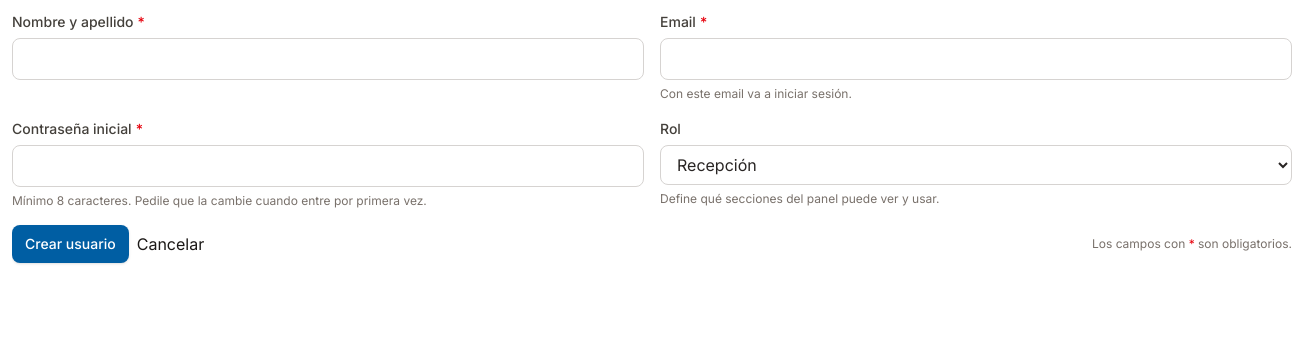
it: Formularios: lo escrito sobrevive a un error de la acción › alta de usuario: repone nombre, email y rol, pero NUNCA la contraseña
Type "Lucía Paz" into the field labelled "Nombre y apellido*" at (328, 59), box [12,38,644,80]
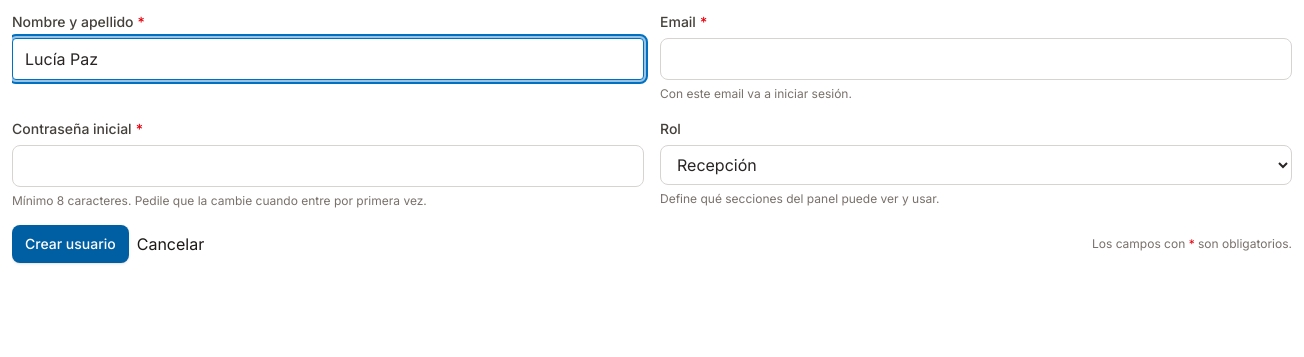
Type "lucia@hotel.test" into the field labelled "Email* Con este email va a iniciar sesión." at (976, 59), box [660,38,1292,80]
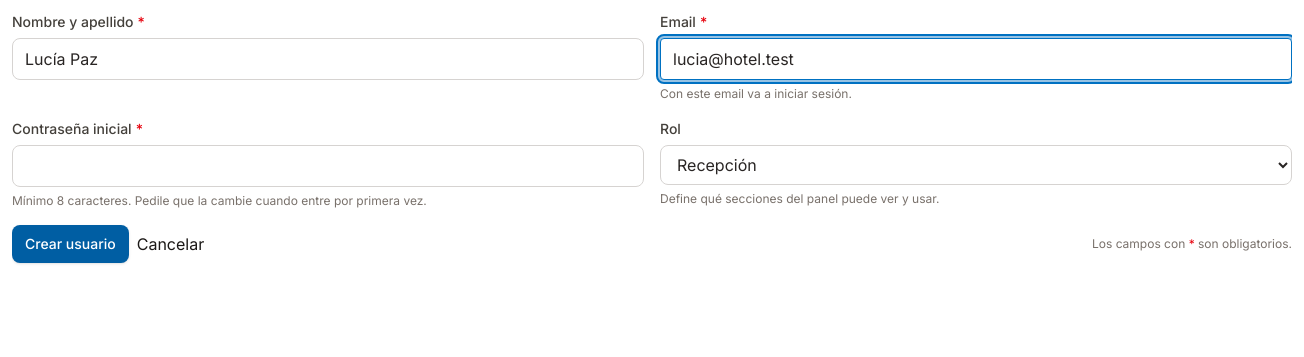
Type "clave-secreta-123" into the password field at (328, 166), box [12,144,644,186]
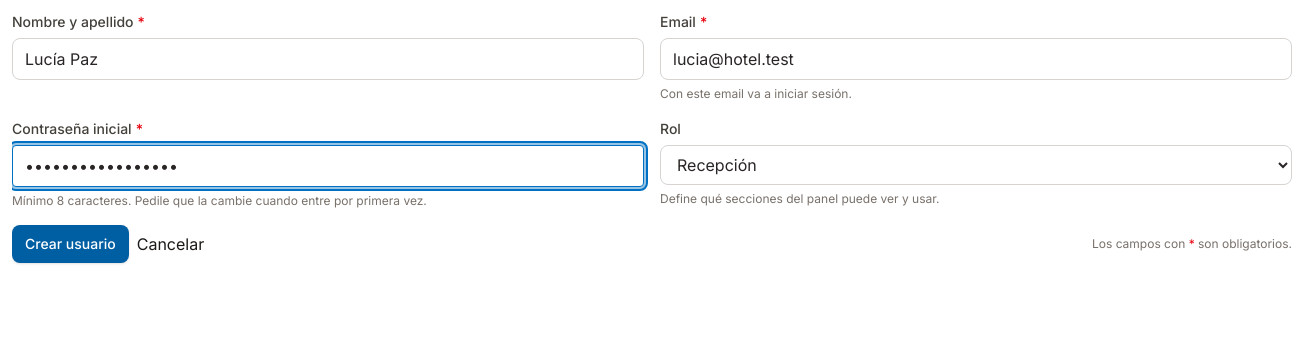
Select "Housekeeping" in the dropdown labelled "Rol Define qué secciones del panel puede ver y usar." at (976, 164), box [660,144,1292,184]
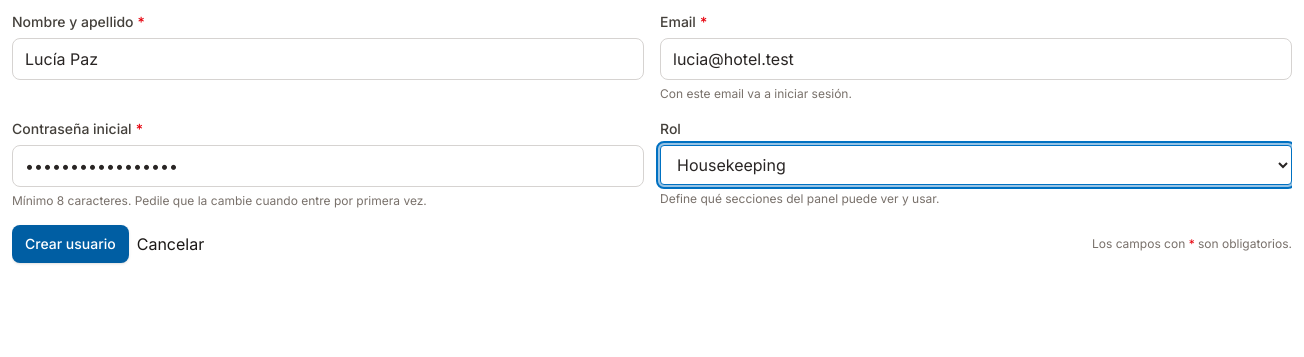
Click the button "Crear usuario" at (70, 244), box [12,225,129,263]
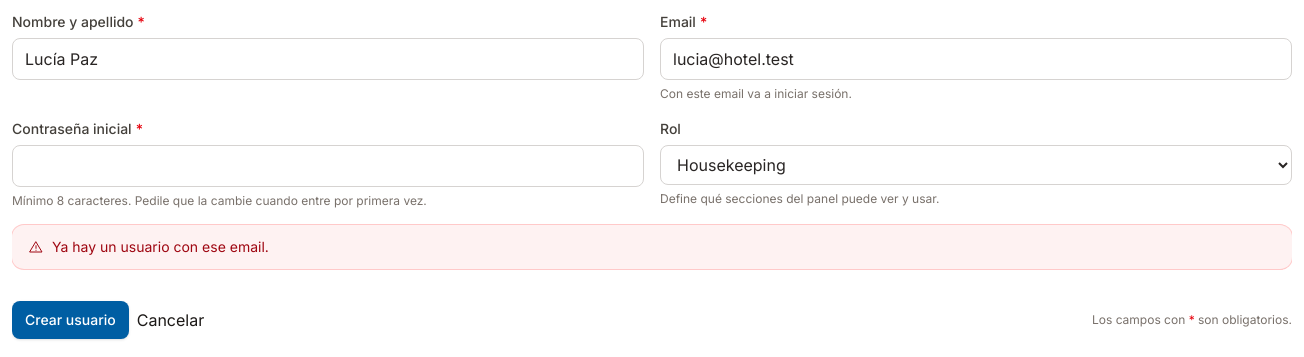
Result: the text "Ya hay un usuario con ese email." is shown at [52,237,269,257]
